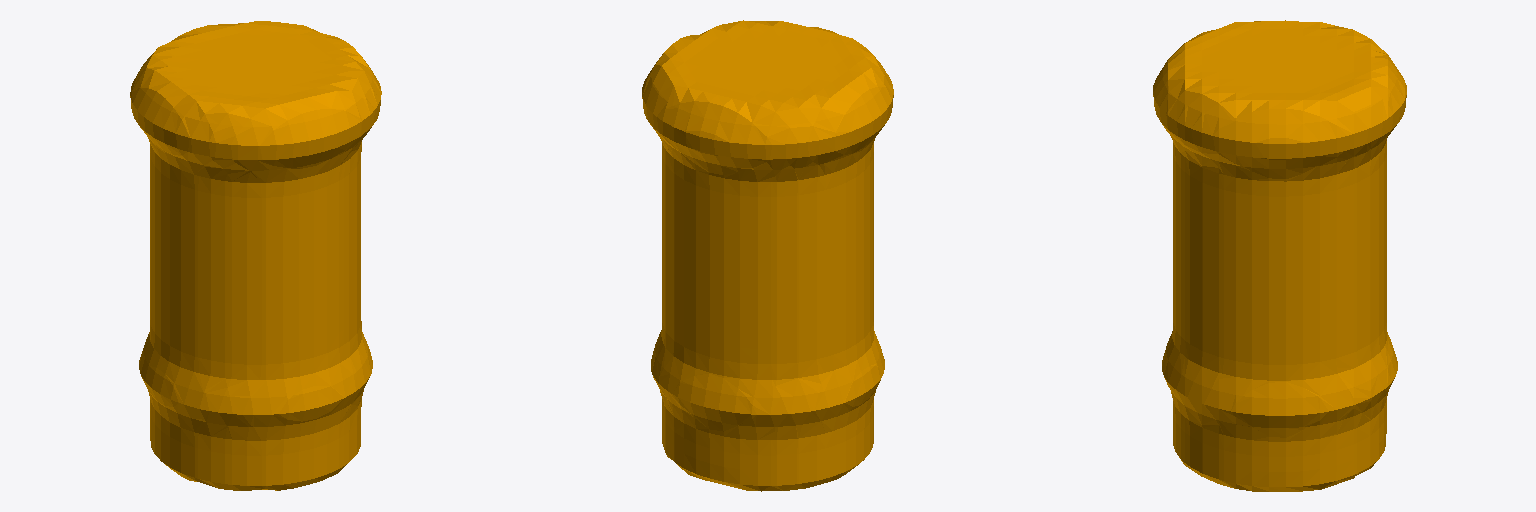
robot.urdf — cylinder_../../meshes/cylinders/cylinder_77.stl:
<?xml version="1.0" encoding="utf-8"?>  <robot name="cylinder_../../meshes/cylinders/cylinder_77.stl">   <link name="cylinder_../../meshes/cylinders/cylinder_77.stl">     <visual>       <geometry>         <mesh filename="../meshes/cylinders/cylinder_77.stl" scale="1 1 1"/>       </geometry>     </visual>     <collision>       <geometry>         <mesh filename="../meshes/cylinders/cylinder_77.stl" scale="1 1 1"/>       </geometry>     </collision>     <inertial>        <origin         xyz="0 0 0"         rpy="0 0 0" />       <mass value="0.42262549213066203"/>       <origin rpy="0 0 0" xyz="0 0 0"/>       <inertia ixx="0.0007064674221491659" ixy="-2.1000344688780898e-08" ixz="-1.844851910690656e-07" iyy="0.0007064718215048907" iyz="-2.0044340717151974e-07" izz="0.00022532421858573903"/>     </inertial>   </link>  </robot>

--- What the picture shows (computed from the rendered views, not written in the file) ---
The picture shows the robot from 3 angles, left to right: view 1: azimuth 30°, elevation 25°; view 2: azimuth 150°, elevation 25°; view 3: azimuth 270°, elevation 25°; orthographic projection.
Model cylinder_../../meshes/cylinders/cylinder_77.stl with 1 links and 0 joints (none), rooted at cylinder_../../meshes/cylinders/cylinder_77.stl, posed all joints at 0.
Links seen in each view (by area): view 1: cylinder_../../meshes/cylinders/cylinder_77.stl; view 2: cylinder_../../meshes/cylinders/cylinder_77.stl; view 3: cylinder_../../meshes/cylinders/cylinder_77.stl.
Boxes of the visible links, left/top/right/bottom form: cylinder_../../meshes/cylinders/cylinder_77.stl: left=130, top=21, right=381, bottom=490; cylinder_../../meshes/cylinders/cylinder_77.stl: left=642, top=20, right=893, bottom=491; cylinder_../../meshes/cylinders/cylinder_77.stl: left=1153, top=20, right=1406, bottom=491.
Size in the robot's own frame: 0.0751 by 0.0751 by 0.1279 metres.
1 mesh visuals loaded from 1 distinct referenced files (1 binary STL).